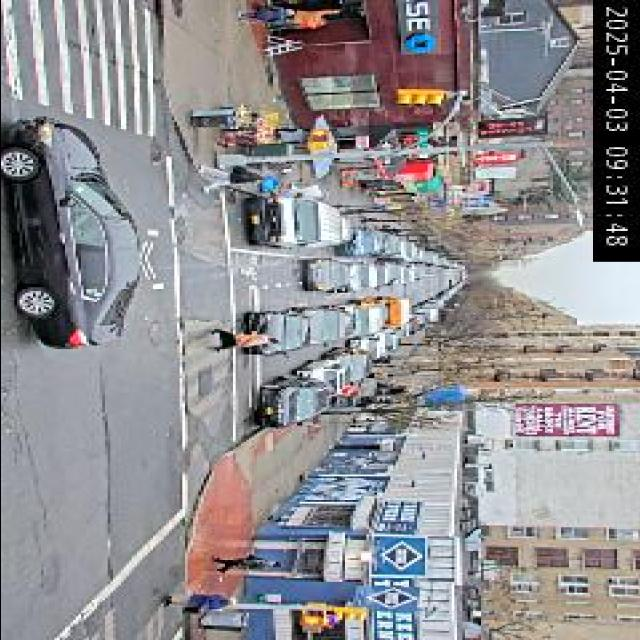open parking: (327, 212, 375, 256)
parkedCars: (233, 162, 477, 264)
